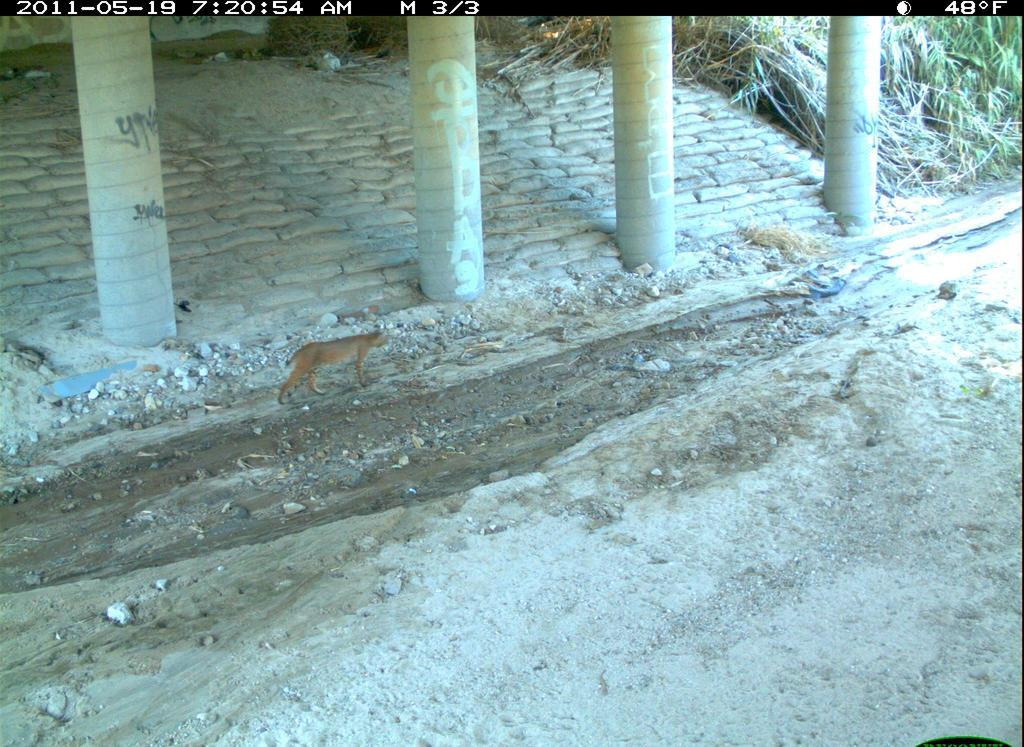bobcat: (546, 653, 793, 747)
